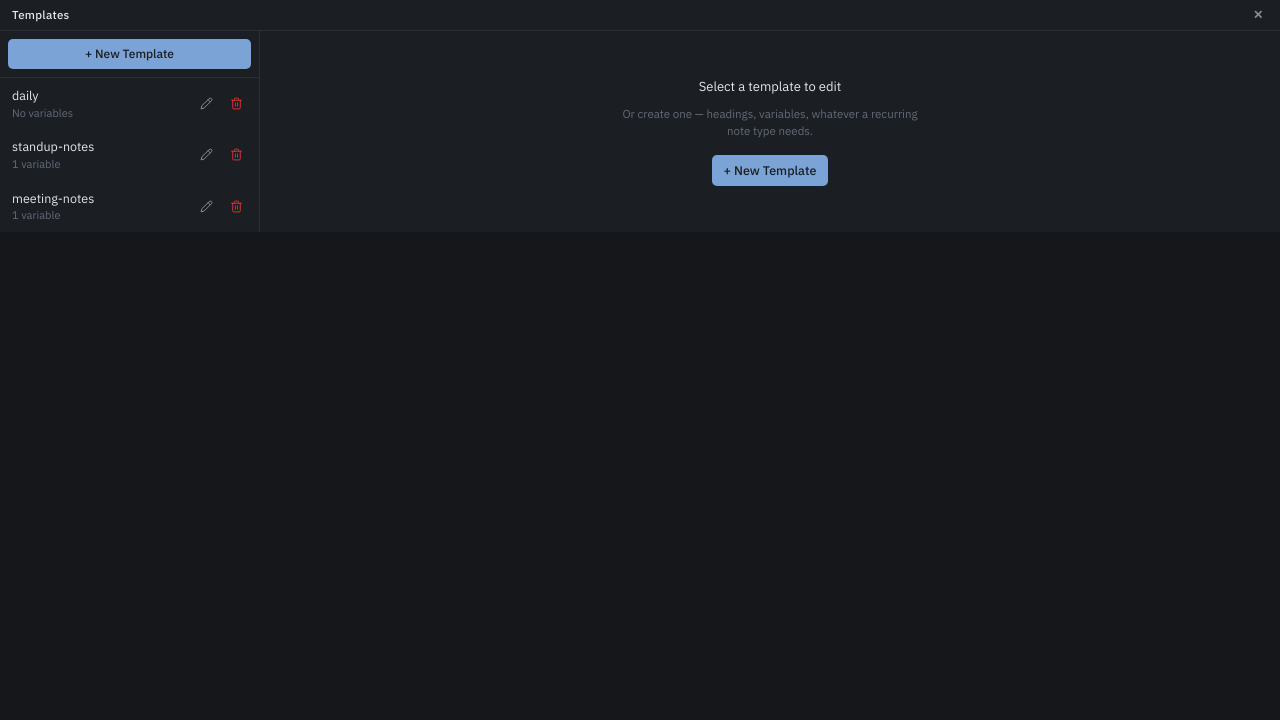
Test case: TemplatesScreen (M10.27 Journey A, first-class screen) › deletes a template after confirming in the dialog
The image size is (1280, 720).
Expected: the text "meeting-notes" is shown, [12, 190, 94, 206]
Click the button named "Delete template \"meeting-notes\"" at (236, 206), box [230, 200, 242, 213]
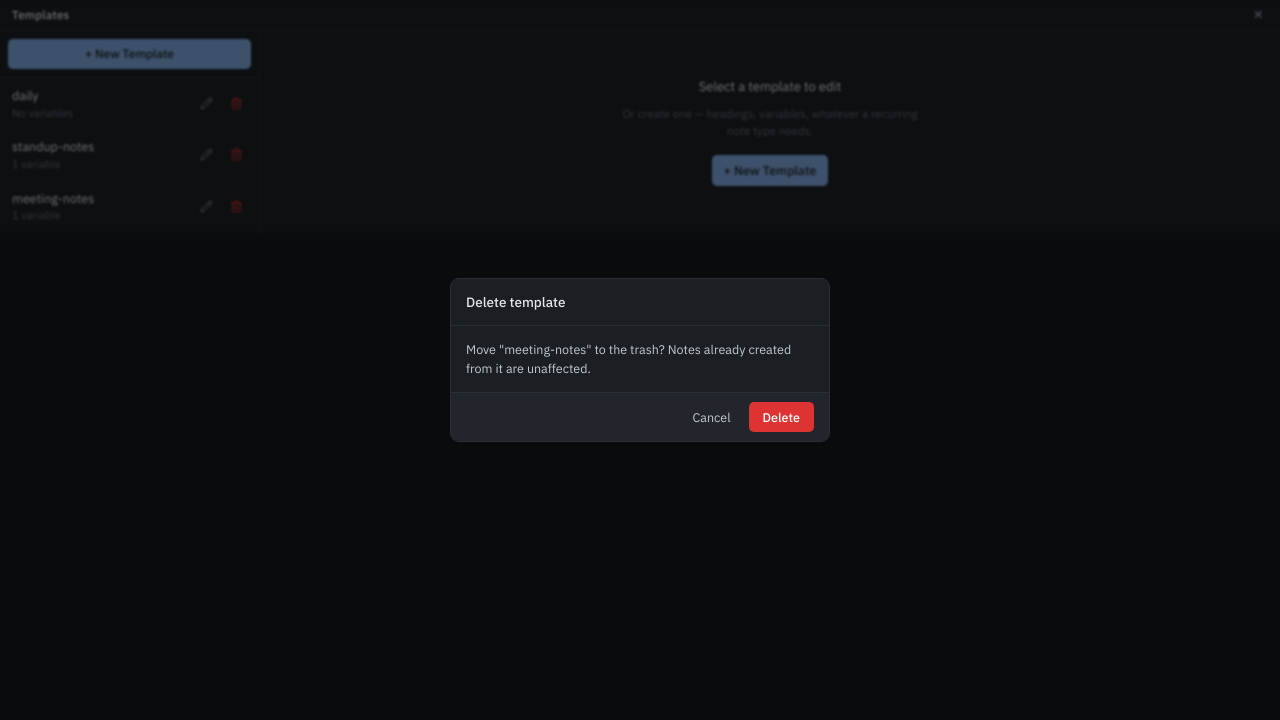
Click the button "Delete" at (781, 417), box [749, 402, 814, 432]
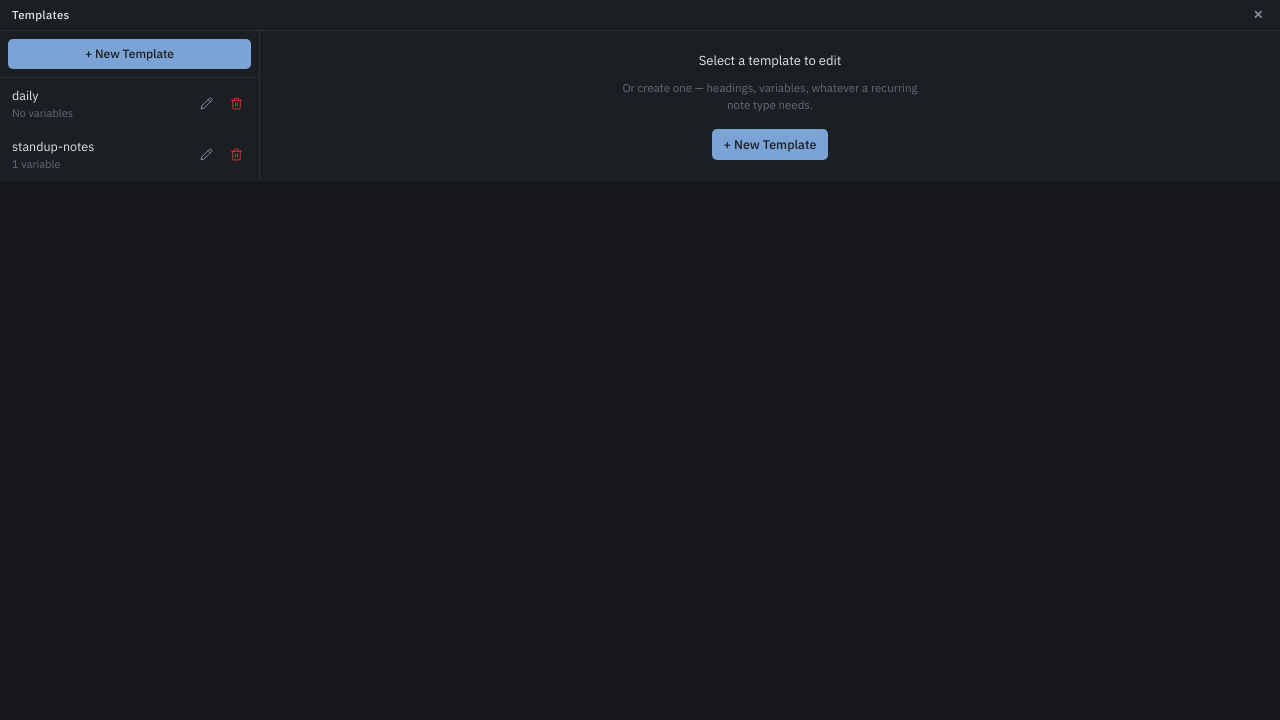
Result: the button "meeting-notes" is gone
